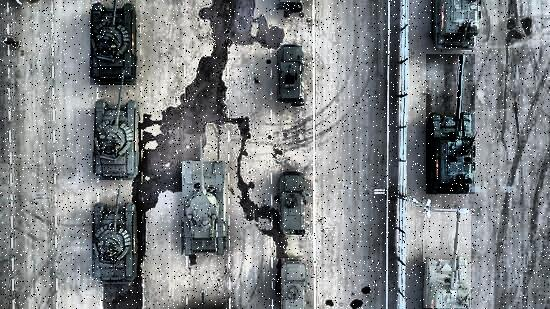military-vehicle: (426, 54, 475, 194), (182, 134, 228, 255), (93, 182, 140, 288), (424, 212, 472, 308), (94, 86, 140, 181), (90, 0, 136, 85), (280, 171, 308, 234), (278, 44, 304, 102), (281, 258, 305, 309)
